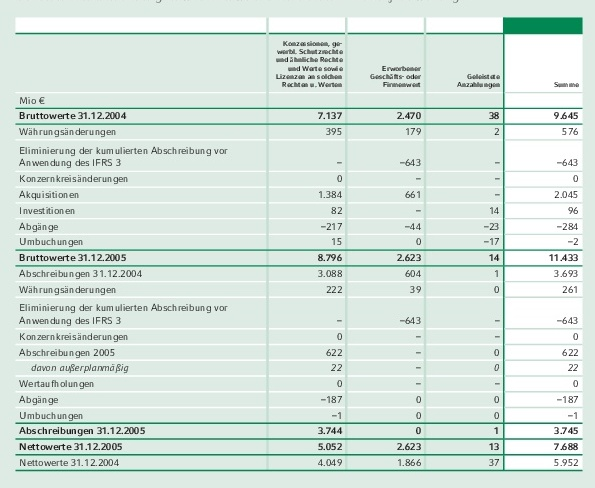table: (0, 0, 595, 488)
